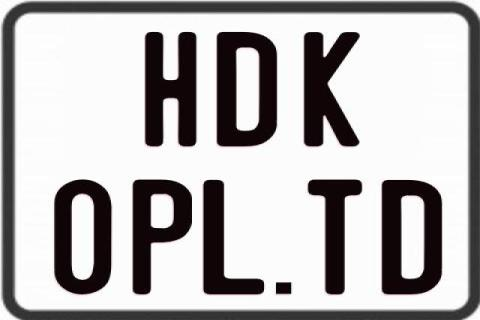0: (52, 178, 115, 294)
D: (382, 179, 446, 297), (214, 30, 274, 146)
H: (142, 32, 197, 150)
K: (301, 30, 363, 146)
L: (202, 180, 264, 299)
P: (134, 180, 194, 298)
T: (308, 177, 366, 297)
